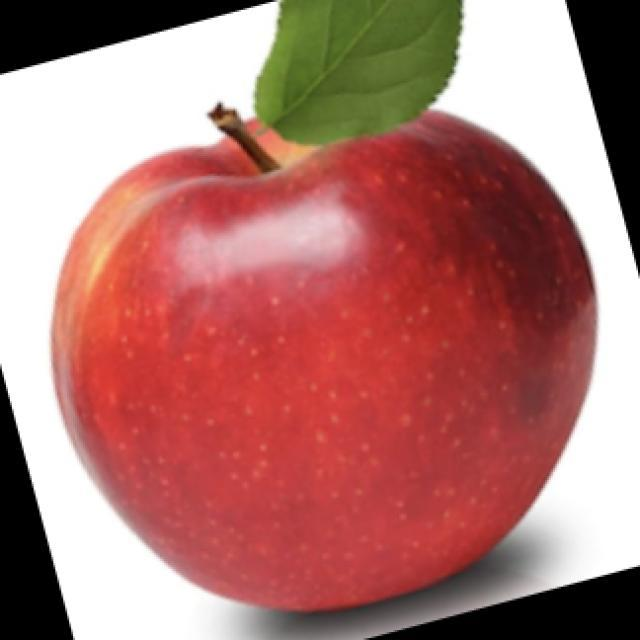Fresh Apple: (51, 105, 596, 613)
